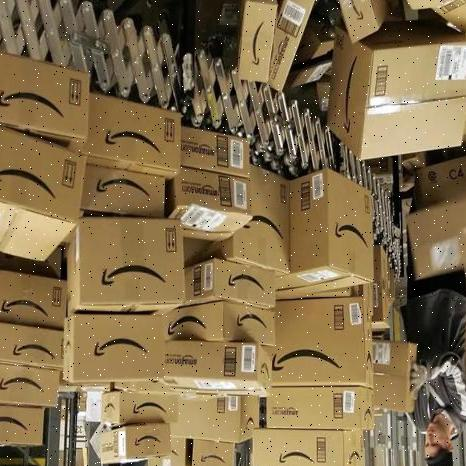Amazon: (320, 33, 466, 160), (275, 167, 378, 297), (73, 218, 186, 311), (0, 131, 76, 261), (192, 171, 292, 263), (275, 297, 373, 389), (88, 95, 186, 165), (66, 313, 162, 383), (0, 53, 84, 127), (171, 176, 250, 244), (167, 343, 272, 391), (267, 384, 373, 427), (265, 0, 316, 88), (168, 392, 261, 440), (189, 256, 280, 305), (167, 306, 278, 343), (177, 128, 269, 172), (254, 430, 364, 466), (74, 171, 164, 215), (0, 270, 67, 324), (236, 0, 276, 78), (0, 362, 61, 409), (96, 425, 165, 466), (101, 395, 177, 427), (332, 0, 388, 43), (0, 327, 63, 364), (0, 407, 44, 448), (150, 438, 185, 466), (192, 446, 234, 466)
